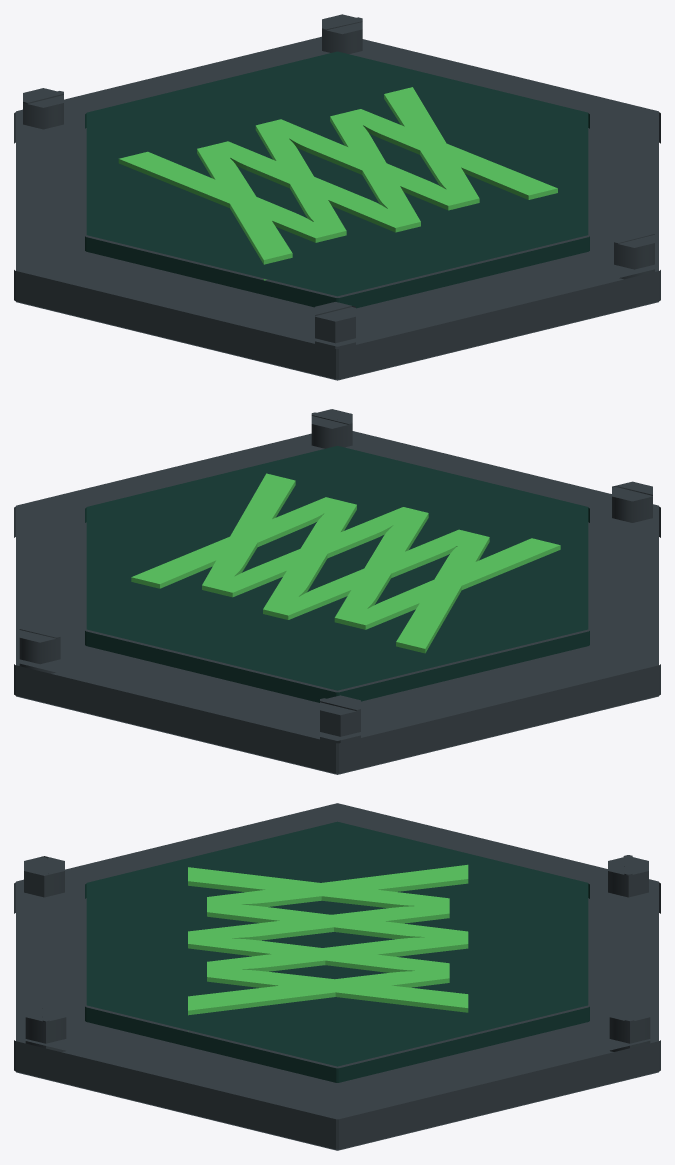
Rendered from warp.fbx.
3 renders of one model, top to bottom at view 1: azimuth 30°, elevation 25°; view 2: azimuth 150°, elevation 25°; view 3: azimuth 270°, elevation 25°, orthographic.
Visible parts, largest first — view 1: warp; view 2: warp; view 3: warp.
Boxes of the visible parts, x1,y1,x2,y2 form: warp: (14,14,660,380); warp: (14,409,660,774); warp: (14,803,660,1150).
Size of the model in its own units: 399 by 33.47 by 346.
